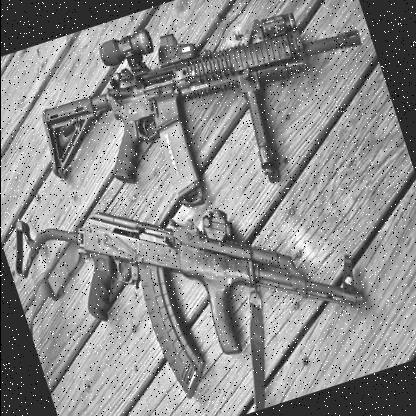rifle: (0, 118, 378, 416), (14, 0, 398, 257)
